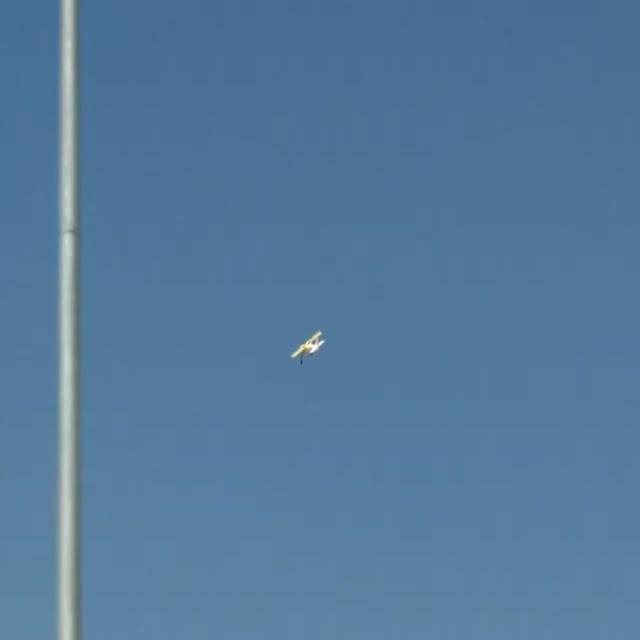iha: (291, 330, 326, 365)
